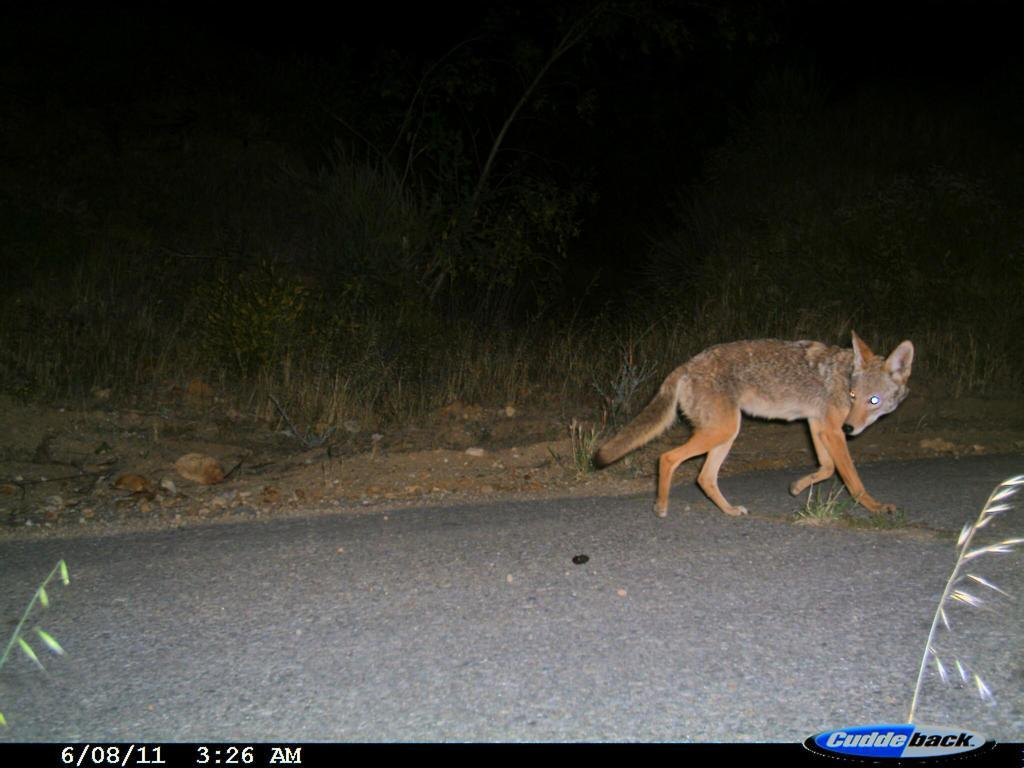coyote: (584, 324, 923, 534)
